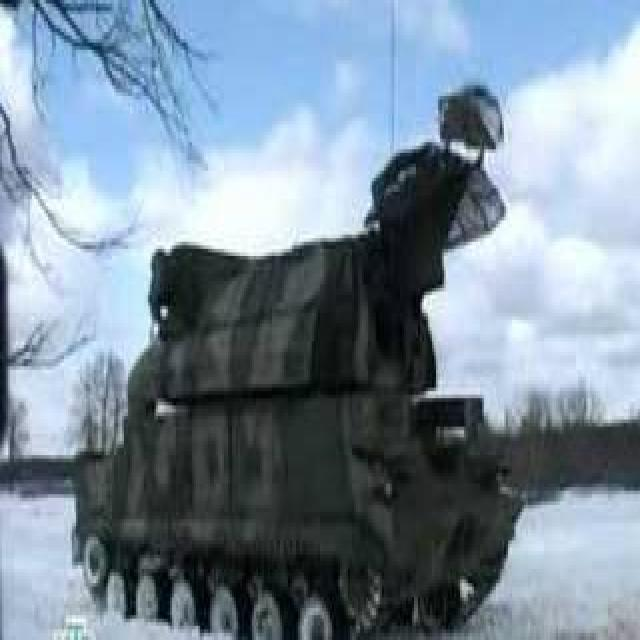MIL_EW_RDR: (72, 109, 532, 626)
